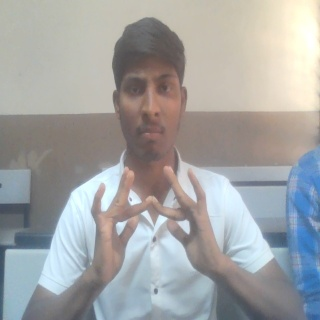Face: (108, 16, 190, 165)
Internet: (86, 165, 228, 291)
